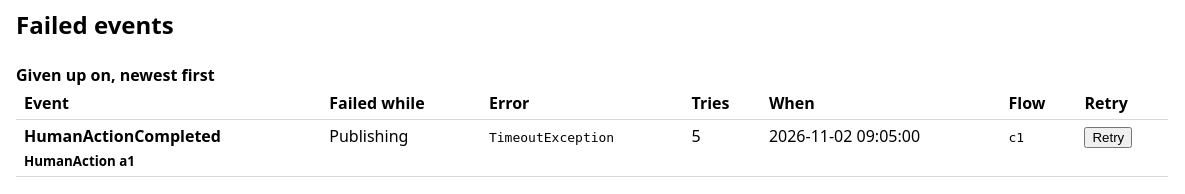
Scenario: FailedEvents › retries a publish failure without naming a handler, and says when there is nothing to retry
Click the button "Retry": (1108, 137) 1084,127 -> 1132,148
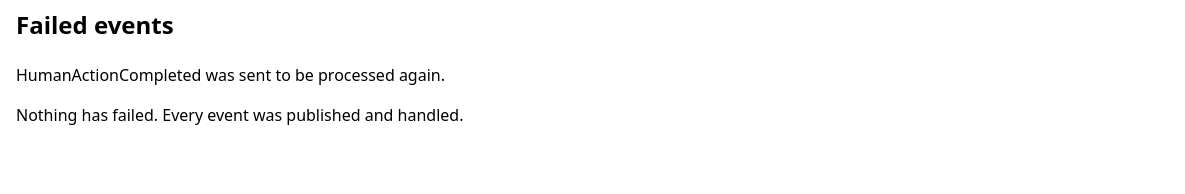
Now the text "Nothing has failed. Every event was published and handled." is shown, box 16,104 -> 463,126
